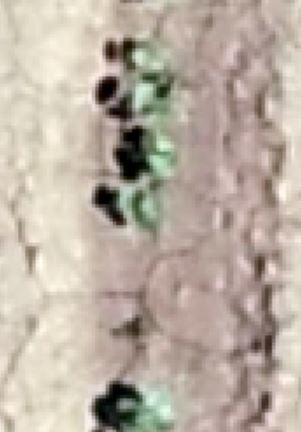cotton: (136, 389, 172, 428), (145, 129, 173, 172), (135, 83, 170, 110), (136, 40, 169, 68), (133, 192, 158, 224)
